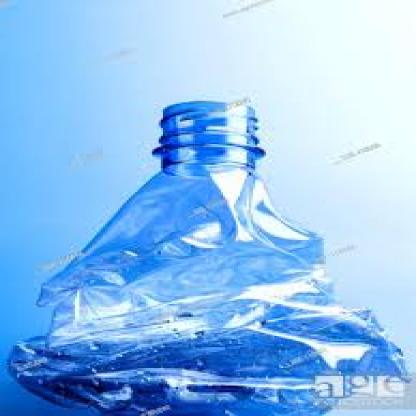Glass Bottle: (8, 80, 416, 416)
